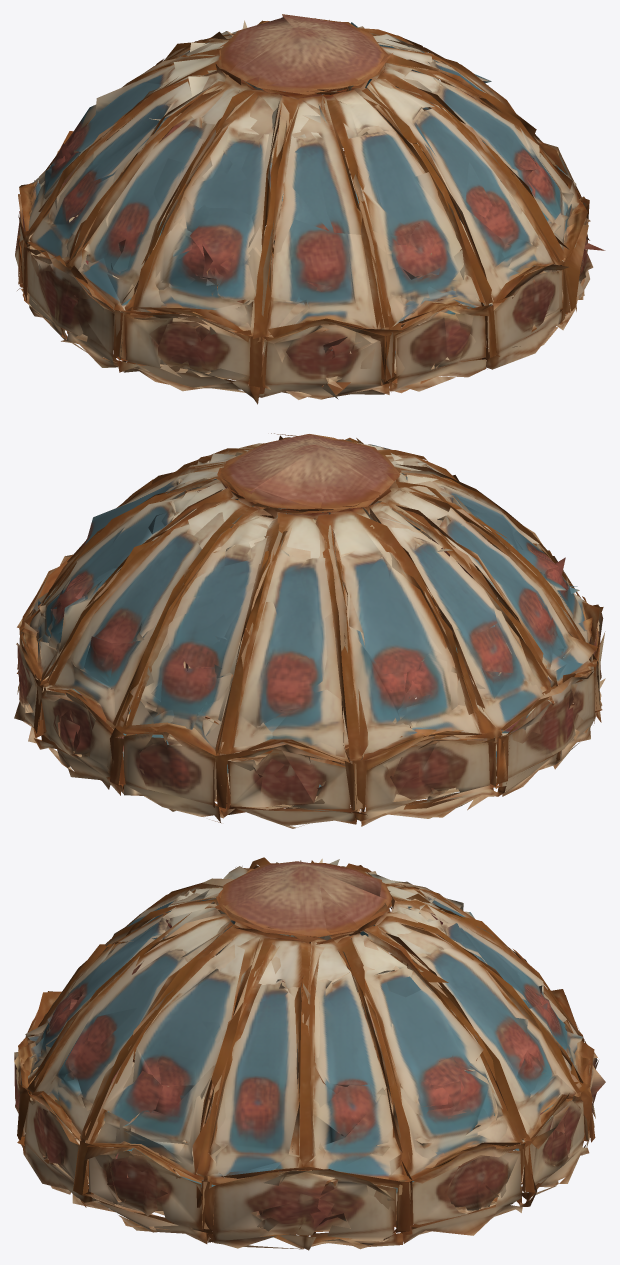
Rendered from unified--detail--swing-canopy.glb.
3 views of the same model, one above another, from view 1: azimuth 30°, elevation 25°; view 2: azimuth 150°, elevation 25°; view 3: azimuth 270°, elevation 25° (orthographic). The views are drawn at different scales.
Visible parts, largest first — view 1: swing-canopy-1; view 2: swing-canopy-1; view 3: swing-canopy-1.
Part boxes in pixels (box(x1,y1,x2,y2)): swing-canopy-1: box(15, 14, 605, 404); swing-canopy-1: box(14, 433, 605, 828); swing-canopy-1: box(14, 857, 605, 1250).
Size of the model in its own units: 0.6027 by 0.3571 by 0.6105.
Materials: 1 (1 with a texture image).
